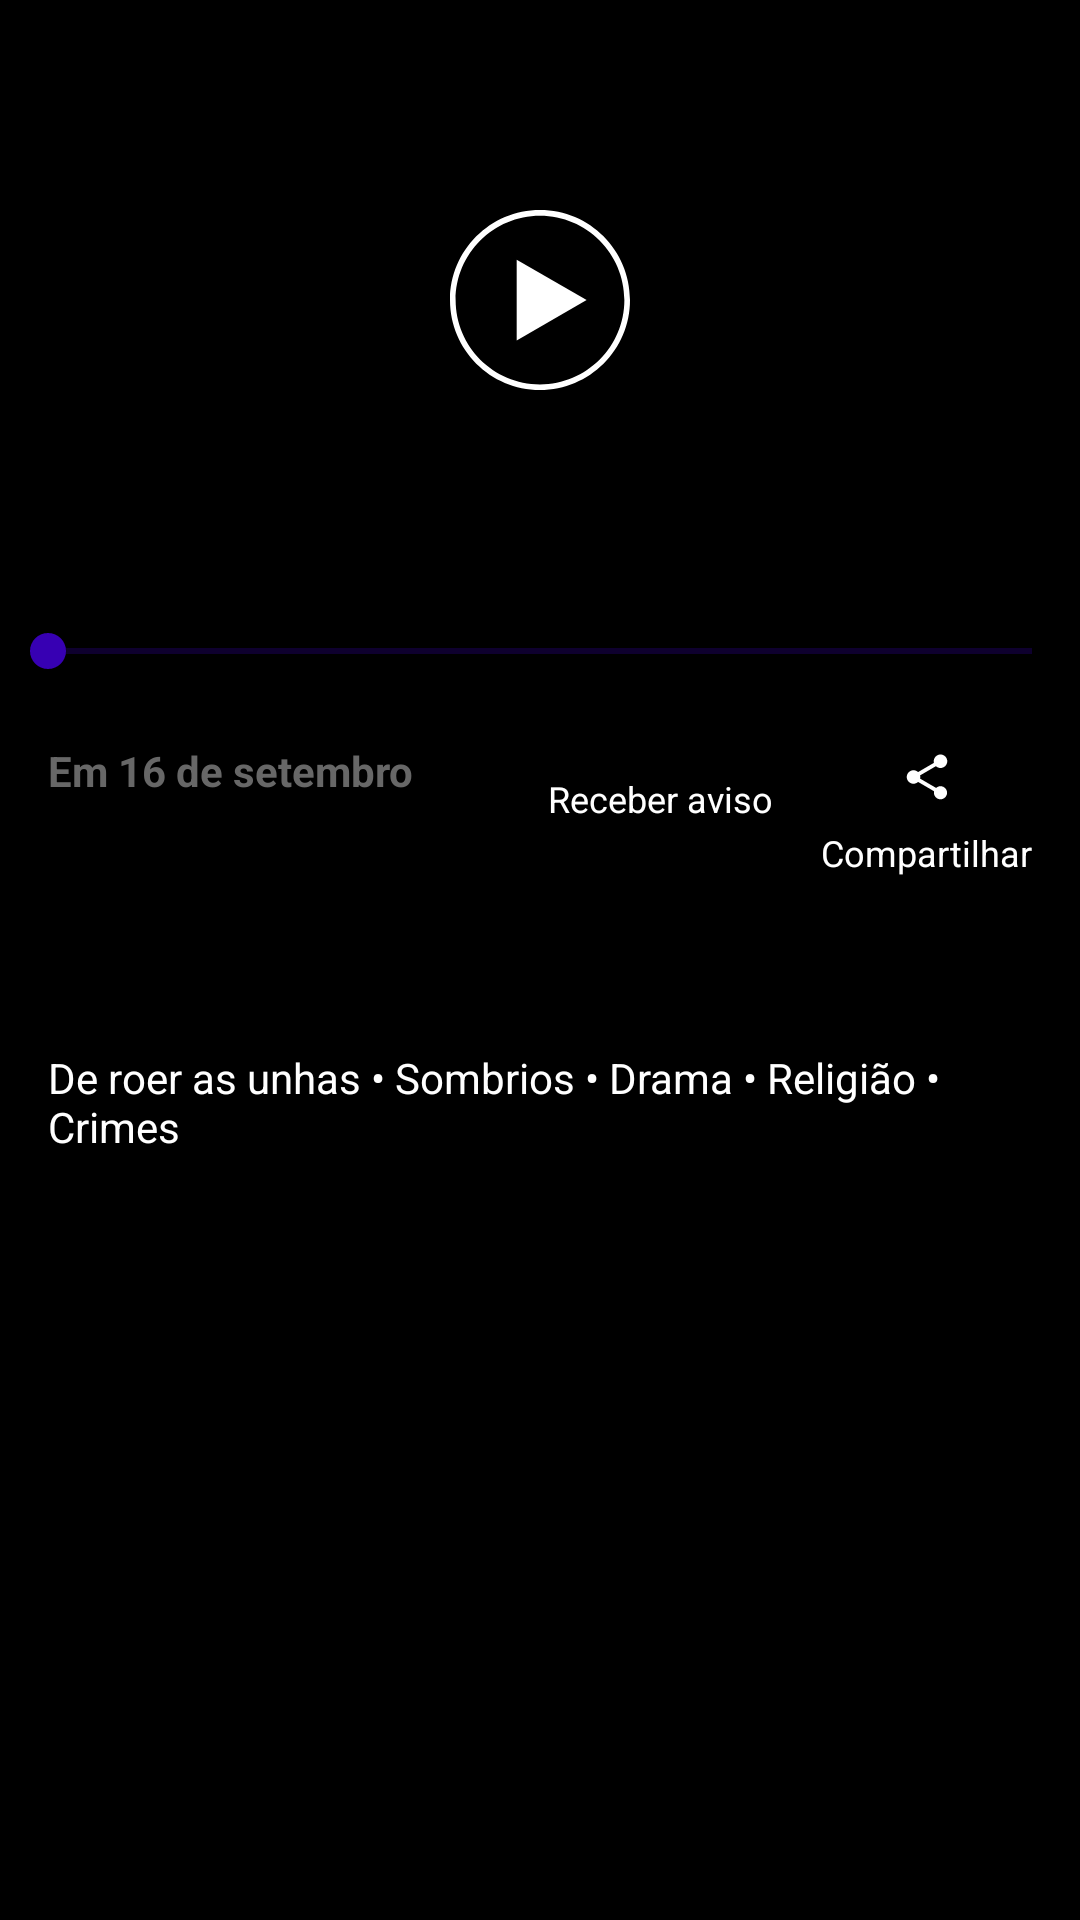

Locate icon controls on the screen. Image size 1080 × 1920, boxes as (x1=x1, y1=y1, x2=x2, y2=y2).
play em breve: (x1=450, y1=210, x2=630, y2=390)
